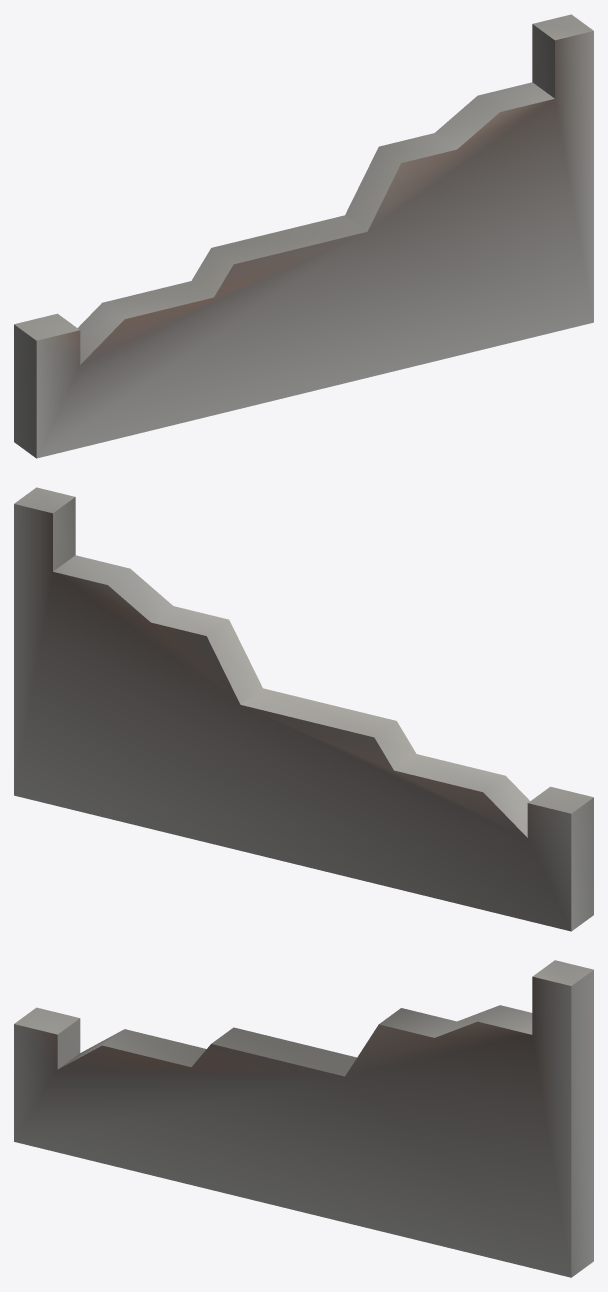
The model's file is wall-broken-type-b.glb.
3 renders of one model, top to bottom at view 1: azimuth 30°, elevation 25°; view 2: azimuth 150°, elevation 25°; view 3: azimuth 330°, elevation 25°, orthographic.
Parts seen in each view (by area): view 1: wall-broken-type-b; view 2: wall-broken-type-b; view 3: wall-broken-type-b.
Boxes of the visible parts, left/top/right/bottom form: wall-broken-type-b: left=14, top=14, right=593, bottom=458; wall-broken-type-b: left=14, top=487, right=593, bottom=931; wall-broken-type-b: left=14, top=960, right=593, bottom=1277.
Size of the model in its own units: 1 by 0.5 by 0.07.
